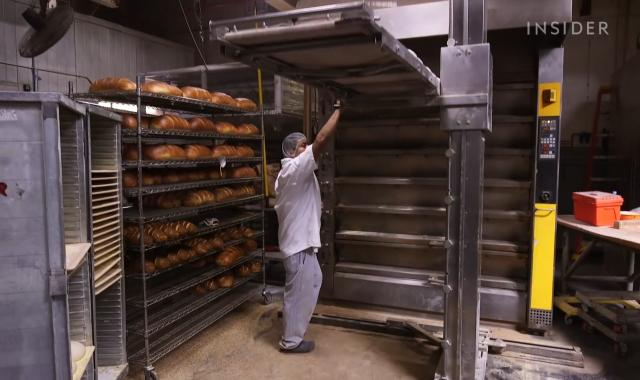hairnet: (282, 130, 306, 160)
